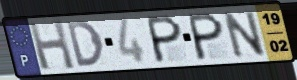4: (118, 15, 150, 66)
D: (64, 19, 105, 69)
H: (27, 19, 78, 72)
N: (220, 9, 268, 60)
P: (147, 13, 184, 64), (188, 11, 225, 62)
